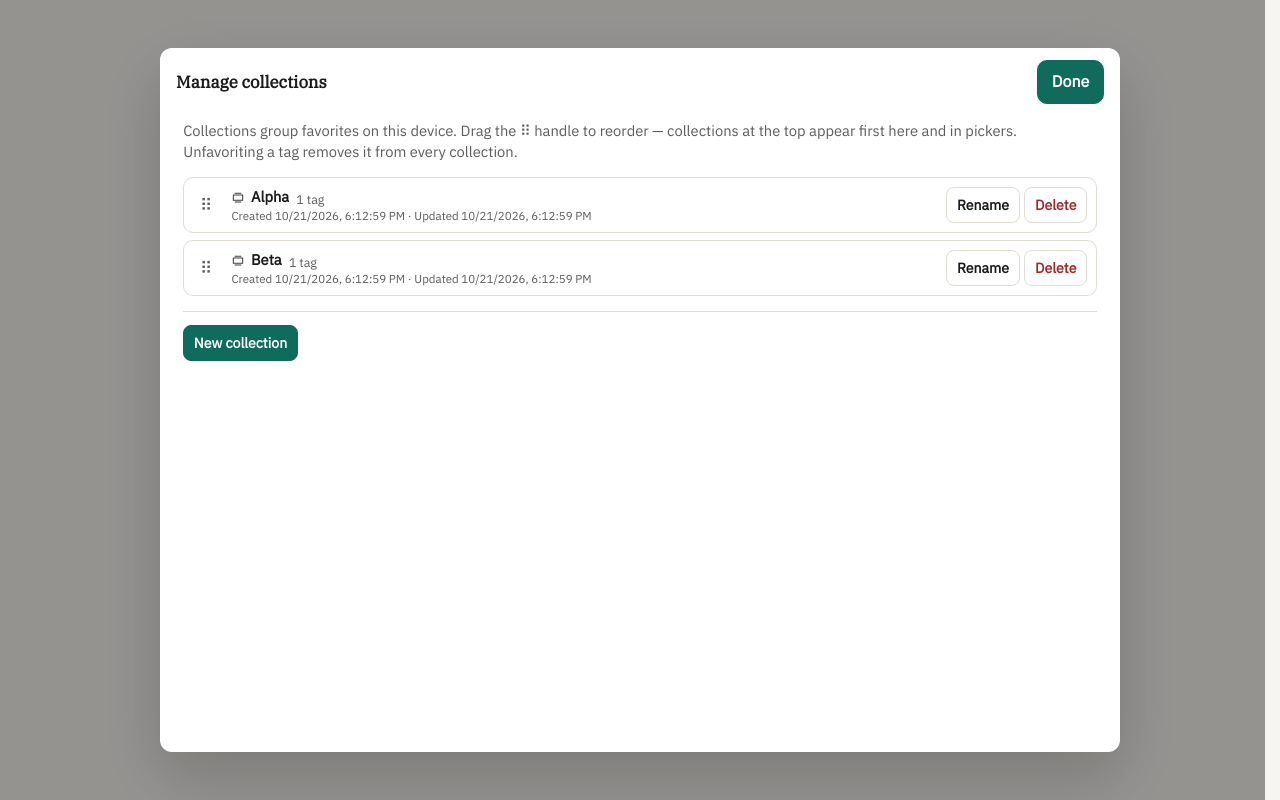
CollectionsManageSheet › rejects duplicate names when renaming
Click the button "Rename" in the row of "Alpha": click(983, 205) [946, 187, 1020, 223]
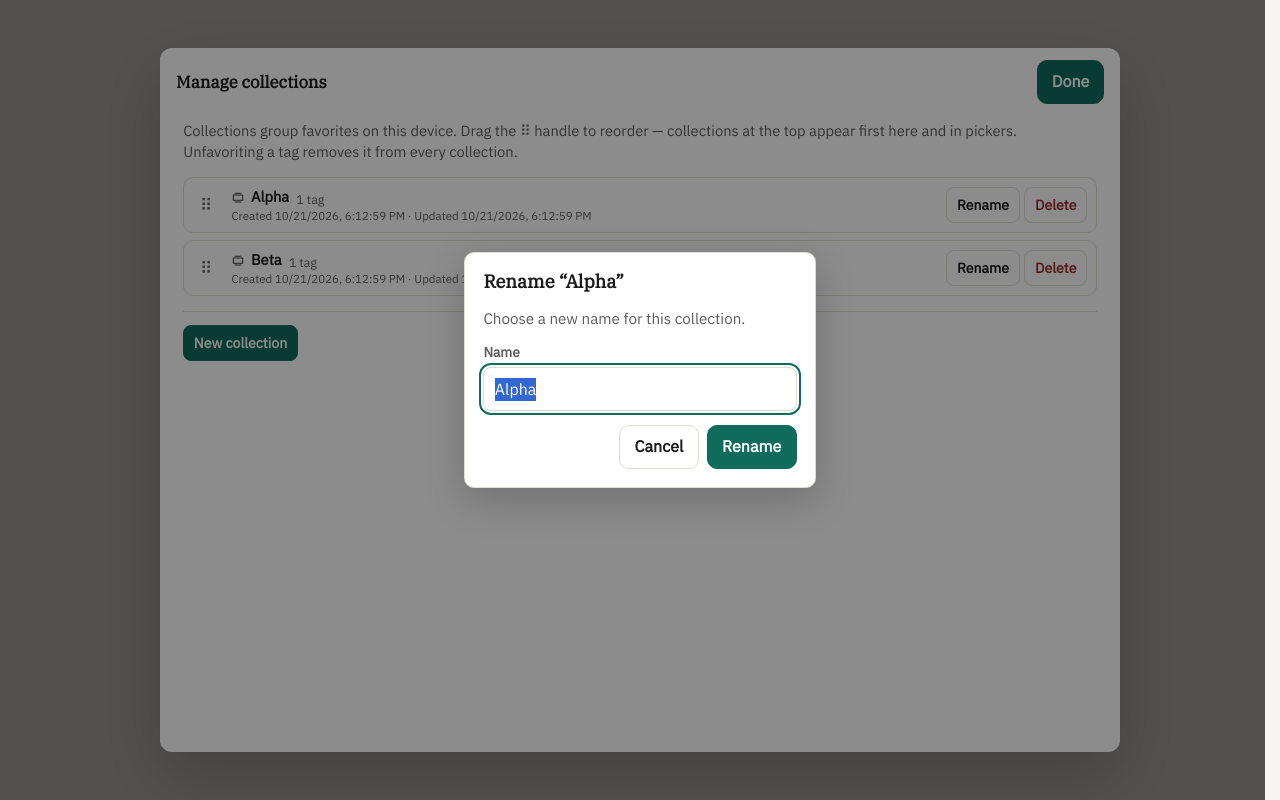
Replace the text in the field named "Collection name" with "Beta": (640, 389) [483, 367, 797, 411]
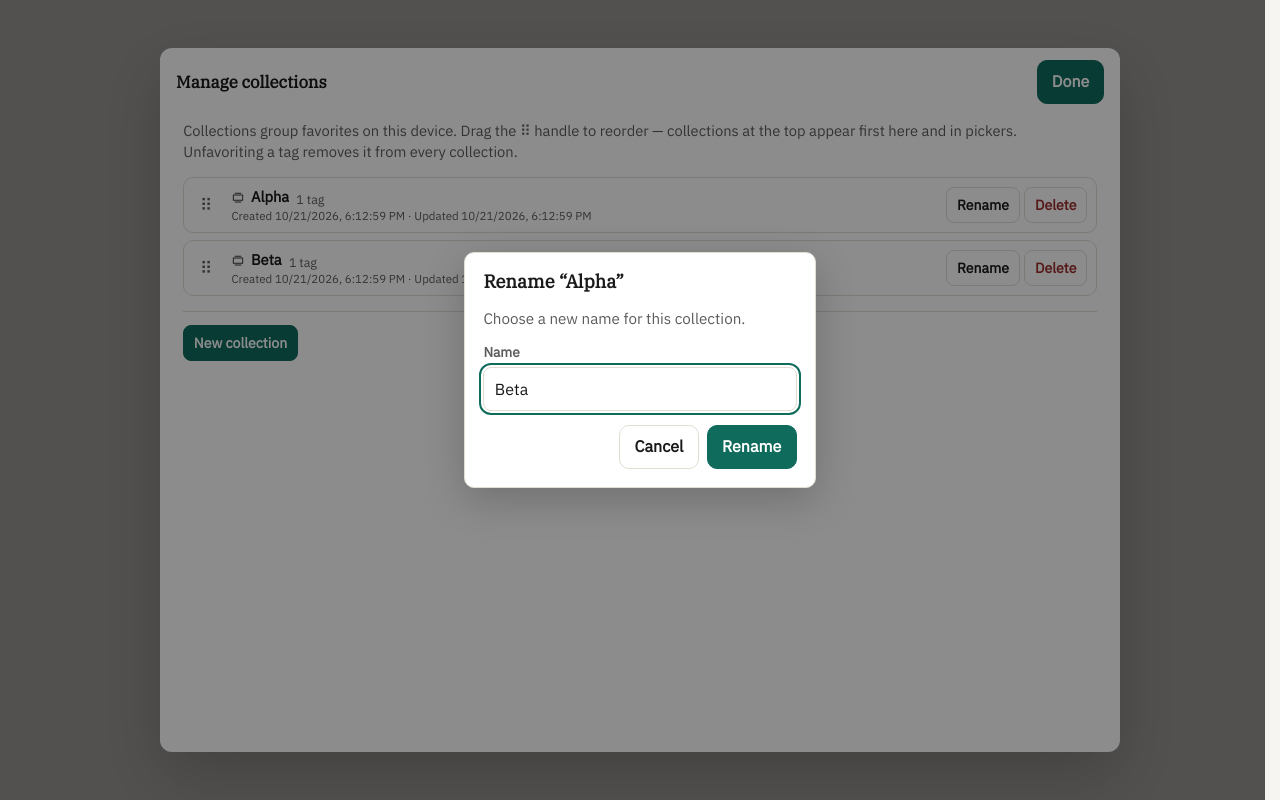
Click the button "Rename": click(752, 447) [707, 425, 797, 469]
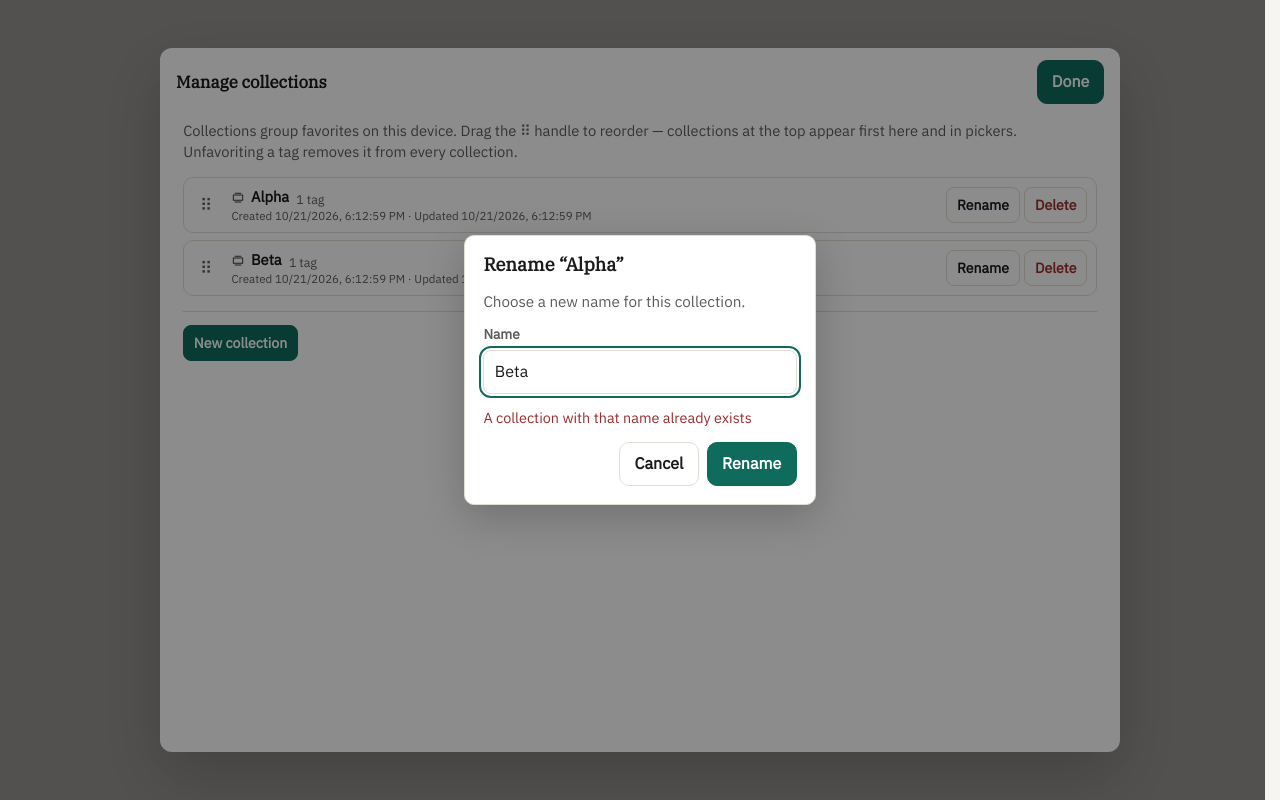
Result: the text "A collection with that name already exists" is shown at [483, 408, 797, 428]
